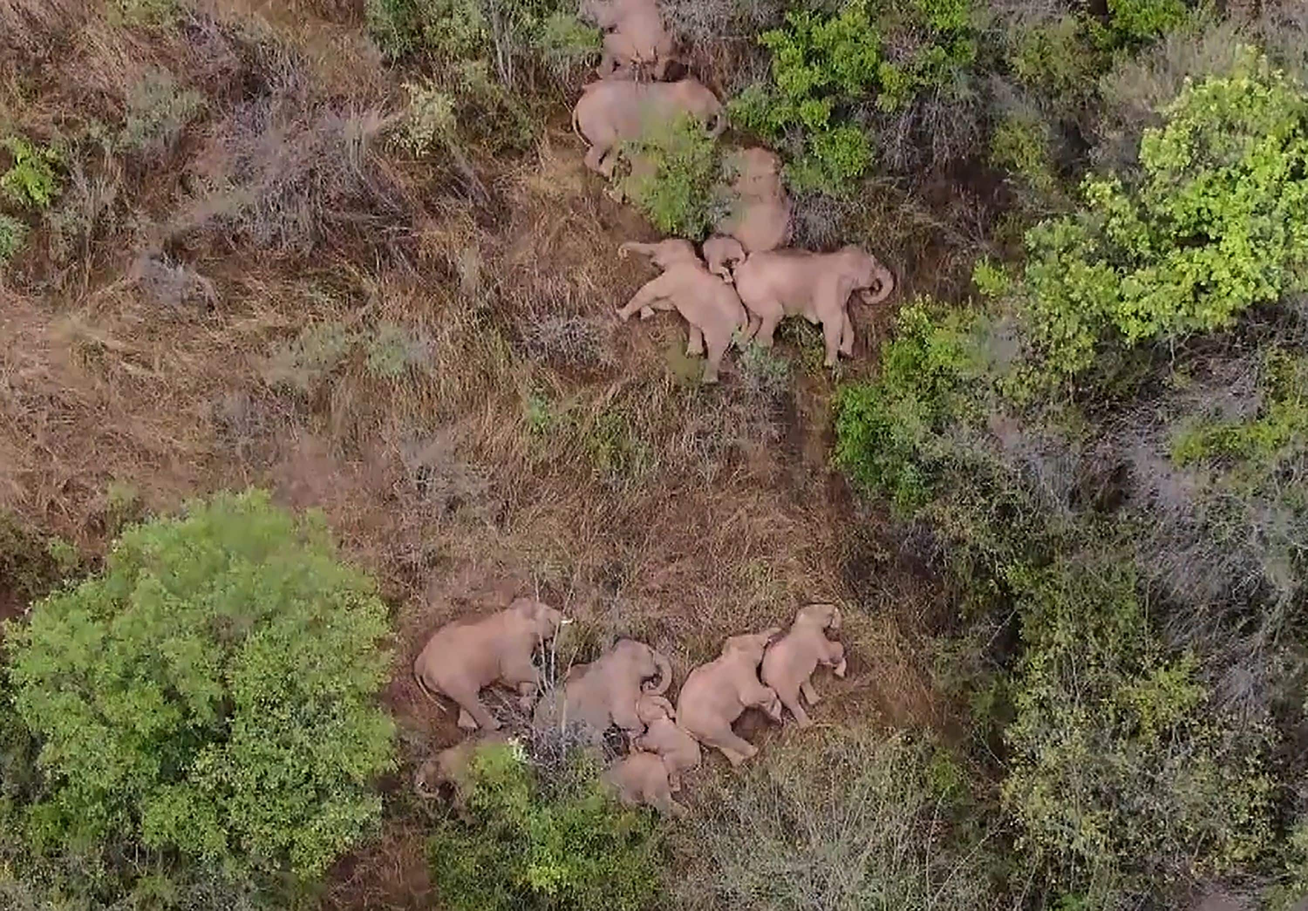Adult Elephant: (561, 79, 730, 206), (421, 585, 568, 730), (742, 240, 898, 370), (532, 630, 657, 757), (696, 147, 797, 251)
Baby Elephant: (598, 223, 744, 387), (679, 623, 761, 770), (774, 600, 851, 717), (417, 732, 519, 819), (627, 694, 704, 776), (604, 747, 679, 819), (696, 234, 757, 281)
